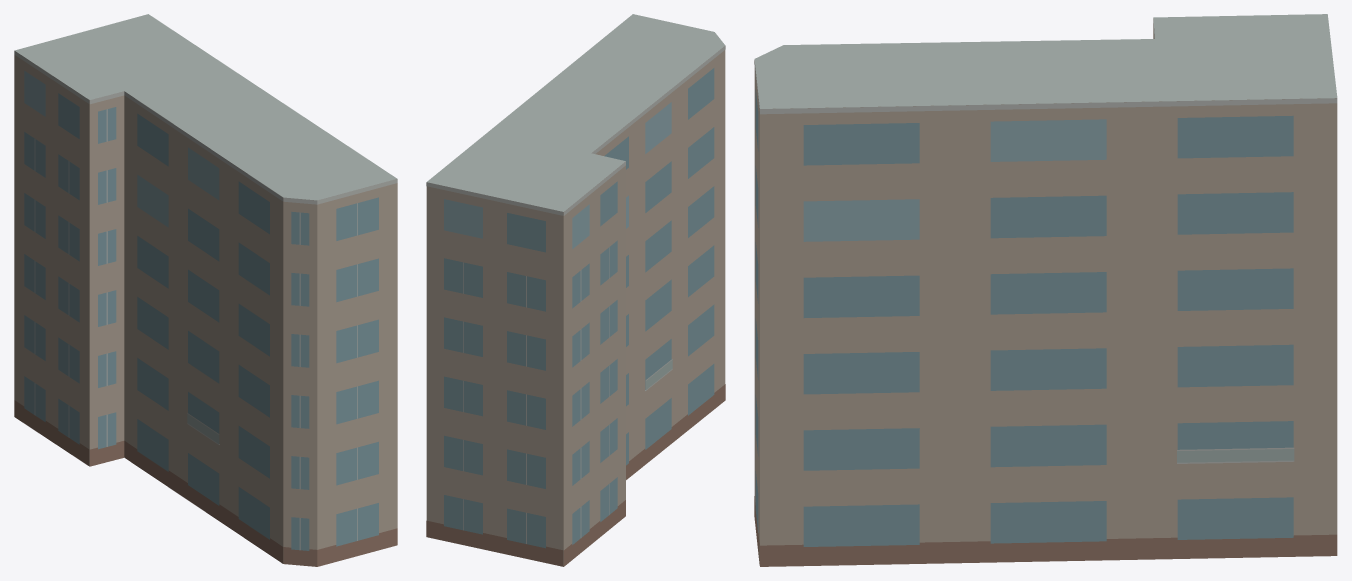
Rendered from survey-upis-32929884.glb.
The picture shows the model from 3 angles, left to right: view 1: azimuth 30°, elevation 25°; view 2: azimuth 150°, elevation 25°; view 3: azimuth 270°, elevation 25°; orthographic projection. The views are drawn at different scales.
Visible parts, largest first — view 1: survey-upis-32929884.tmp; view 2: survey-upis-32929884.tmp; view 3: survey-upis-32929884.tmp.
Boxes of the visible parts, bbox=[...] form: survey-upis-32929884.tmp: bbox=[14, 14, 397, 566]; survey-upis-32929884.tmp: bbox=[426, 14, 725, 566]; survey-upis-32929884.tmp: bbox=[754, 14, 1337, 566].
Bounding box in the file's own units: 9.49 × 21.3 × 24.59.
